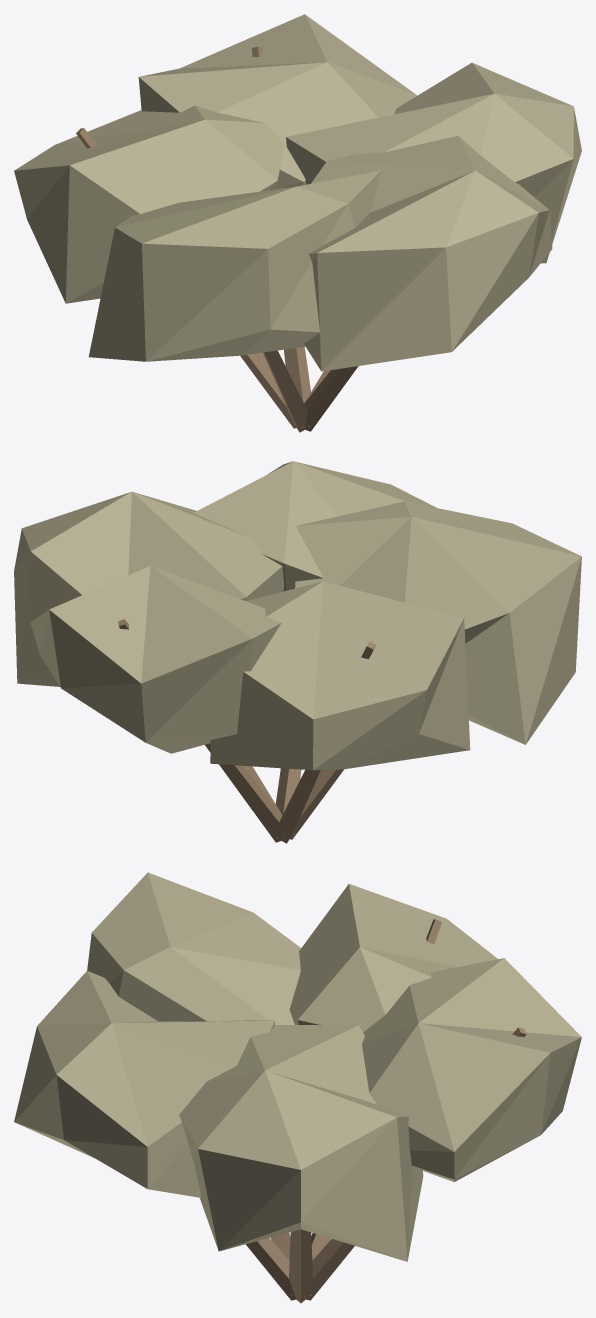
3 views of the same model, one above another, from view 1: azimuth 30°, elevation 25°; view 2: azimuth 150°, elevation 25°; view 3: azimuth 270°, elevation 25° (orthographic). The views are drawn at different scales.
Bounding box in the file's own units: 1.72 × 0.9755 × 1.58.
